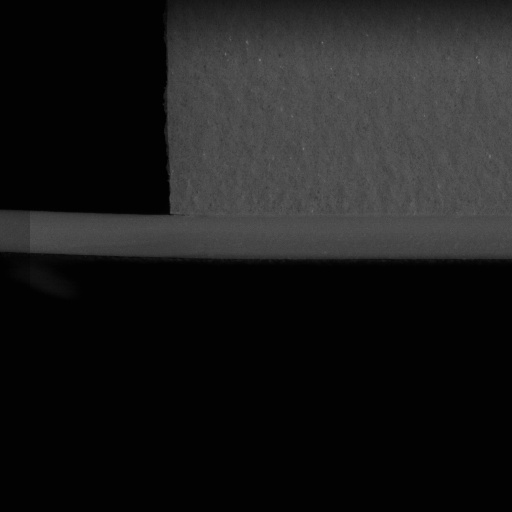changdai: (0, 209, 168, 263)
